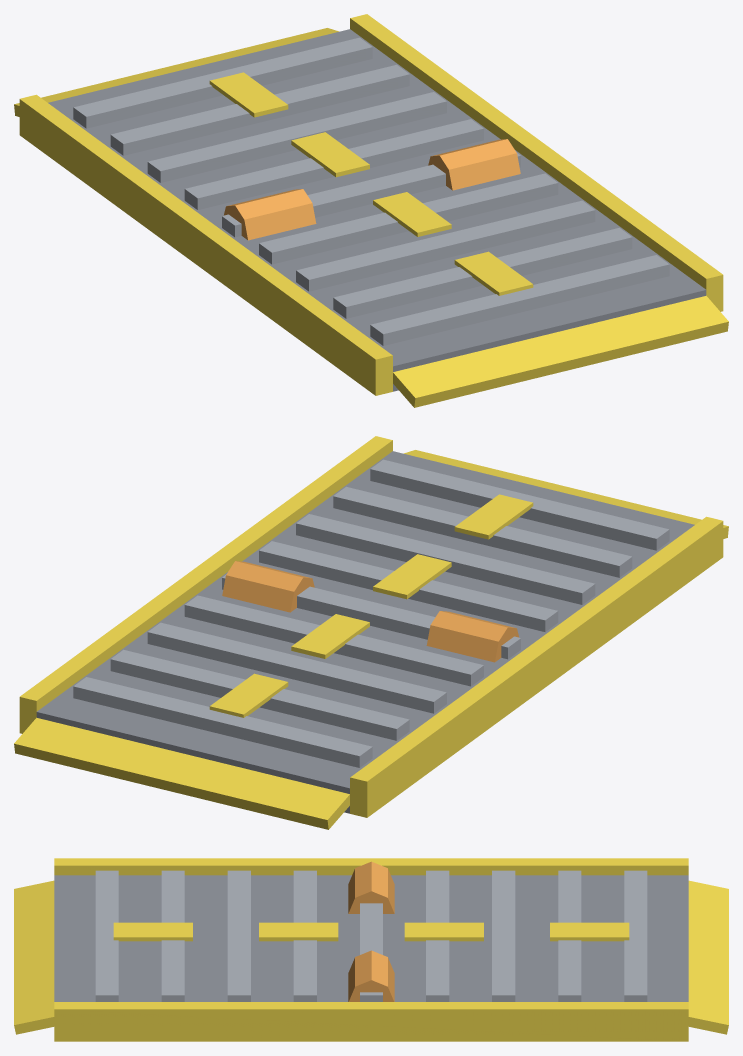
The model's file is vibe_floor.glb.
The picture shows the model from 3 angles, top to bottom: view 1: azimuth 30°, elevation 25°; view 2: azimuth 150°, elevation 25°; view 3: azimuth 270°, elevation 25°; orthographic projection. The views are drawn at different scales.
Parts seen in each view (by area): view 1: vibe_floor; view 2: vibe_floor; view 3: vibe_floor.
Boxes of the visible parts, bbox=[...] form: vibe_floor: bbox=[14, 14, 728, 407]; vibe_floor: bbox=[14, 436, 728, 829]; vibe_floor: bbox=[14, 858, 728, 1041].
Size of the model in its own units: 1 by 0.1412 by 2.
